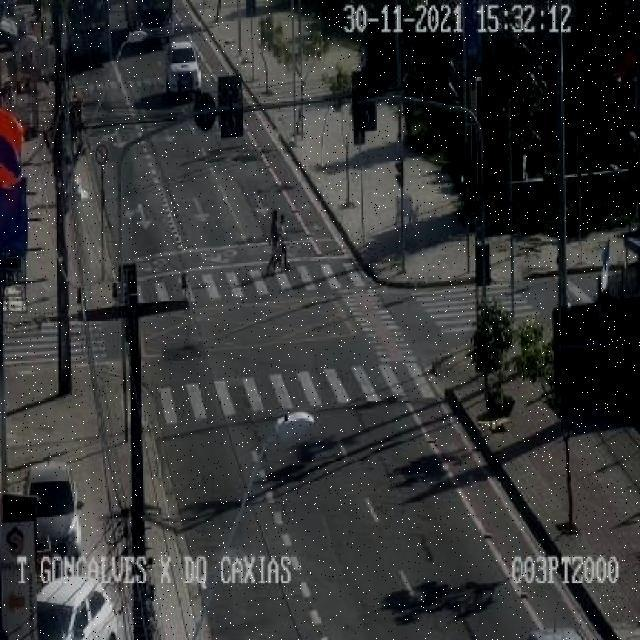Bus: (62, 0, 114, 66), (126, 0, 175, 44)
Car: (19, 461, 85, 559), (38, 575, 124, 640), (167, 40, 203, 100)
